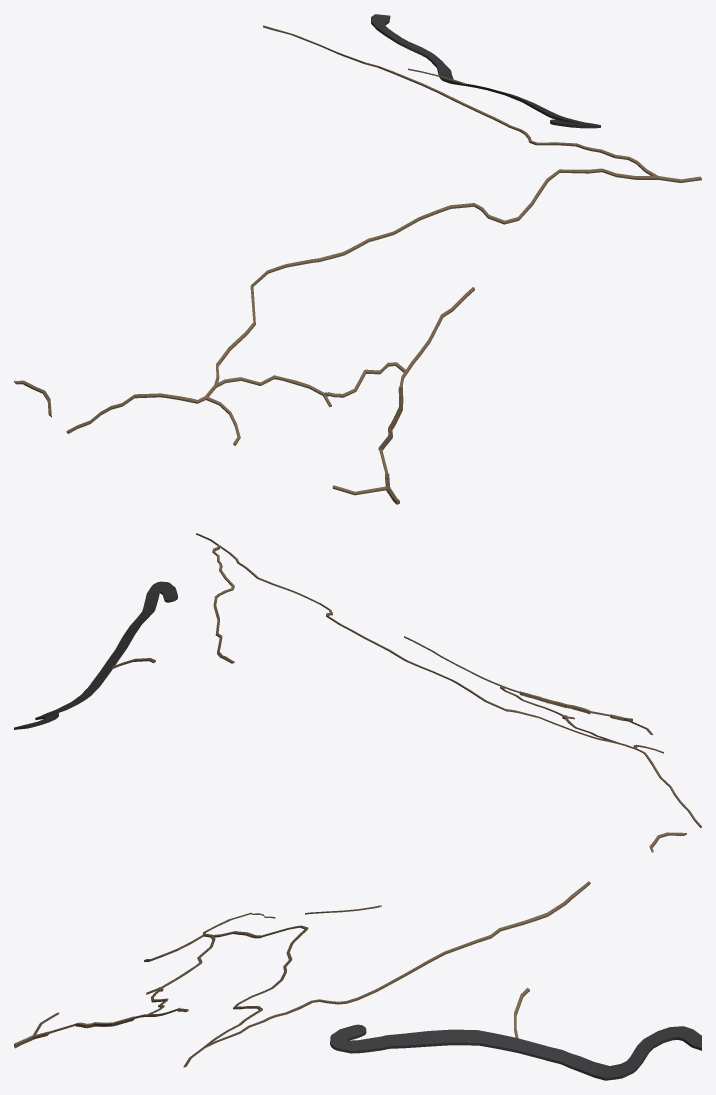
3 views of the same model, one above another, from view 1: azimuth 30°, elevation 25°; view 2: azimuth 150°, elevation 25°; view 3: azimuth 270°, elevation 25° (orthographic). The views are drawn at different scales.
Size of the model in its own units: 293 by 112 by 292.
